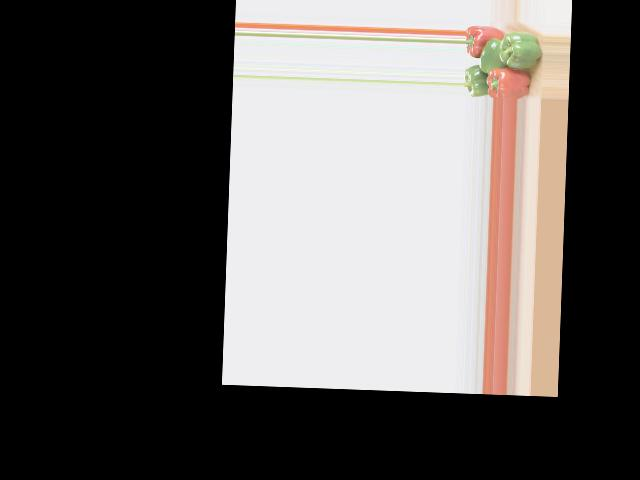bell_pepper: (487, 65, 534, 99)
